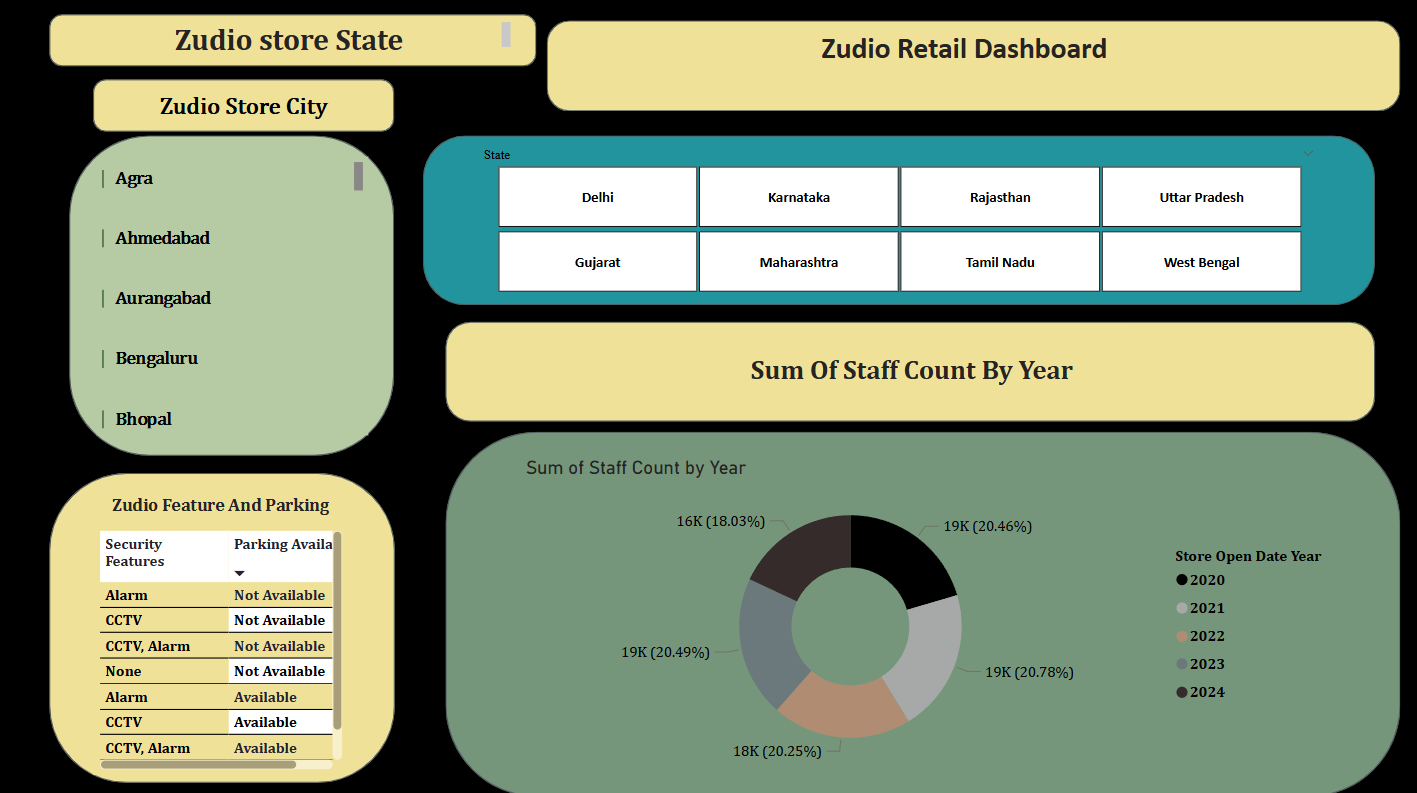

What the dashboard file says about the page in this screenshot:
{"tool":"powerbi","page":{"name":"Zudio_Retail_Staff_Summery_Dashbord","canvas":[1280,720],"ordinal":0},"visuals":[{"type":"shape","box":[45.7,14.8,439.3,47],"z":0,"group":"g5"},{"type":"shape","box":[494.4,20.2,769.8,81.9],"z":0,"group":"g6"},{"type":"shape","box":[64.5,123.6,292.9,288.8],"z":0,"group":"g1"},{"type":"shape","box":[382.9,123.6,858.4,153.1],"z":0,"group":"g4"},{"type":"shape","box":[403,291.5,838.3,90],"z":0,"group":"g3"},{"type":"shape","box":[403,390.9,861.1,329.1],"z":0,"group":"g2"},{"type":"shape","box":[45.7,428.5,311.7,279.4],"z":0},{"type":"textbox","box":[86.4,443.3,229.7,30.3],"z":0,"group":"g7"},{"type":"textbox","box":[64.5,17.5,401.7,43],"z":1000,"group":"g5"},{"type":"textbox","title":"1 Text box","box":[566.8,23.9,608.5,73.1],"z":1000,"group":"g6"},{"type":"shape","box":[85.7,73.3,271.6,47.3],"z":1000,"group":"g8"},{"type":"slicer","fields":{"Values":["Zudio_sales_data.State"]},"box":[425,129,774.1,142.3],"z":1000,"group":"g4"},{"type":"multiRowCard","fields":{"Values":["Zudio_sales_data.City"]},"box":[89.5,143,244.9,250.9],"z":1000,"group":"g1"},{"type":"textbox","box":[473.1,314.7,695.8,43.6],"z":1000,"group":"g3"},{"type":"donutChart","fields":{"Y":["Sum(Zudio_sales_data.Staff Count)"],"Category":["Zudio_sales_data.Store Open Date.Variation.Date Hierarchy.Year","Zudio_sales_data.Store Open Date.Variation.Date Hierarchy.Quarter","Zudio_sales_data.Store Open Date.Variation.Date Hierarchy.Month","Zudio_sales_data.Store Open Date.Variation.Date Hierarchy.Day"]},"box":[470.2,412.9,745.3,287.3],"z":1000,"group":"g2"},{"type":"tableEx","fields":{"Values":["Zudio_sales_data.Security Features","Zudio_sales_data.Parking Availability"]},"box":[86,476.5,229.7,224.9],"z":1000,"group":"g7"},{"type":"textbox","box":[98.9,80.6,244.2,37.6],"z":2000,"group":"g8"},{"type":"group","id":"g1","title":"Group 7","box":[64.5,123.6,292.9,288.8],"z":2000},{"type":"group","id":"g2","title":"Group 4","box":[403,390.9,861.1,329.1],"z":3000},{"type":"group","id":"g3","title":"Group 9","box":[403,291.5,838.3,90],"z":4000},{"type":"group","id":"g4","title":"Group 5","box":[382.9,123.6,858.4,153.1],"z":5000},{"type":"group","id":"g5","title":"Group 6","box":[45.7,14.8,439.3,47],"z":6000},{"type":"group","id":"g6","title":"Group 2","box":[494.4,20.2,769.8,81.9],"z":7000},{"type":"group","id":"g7","title":"Group 1","box":[86,443.3,229.7,256.6],"z":8000},{"type":"group","id":"g8","title":"Group 3","box":[85.7,73.3,271.6,47.3],"z":9000}]}

Visuals, with their boxes in screenshot pixels (x1, y1, x2, y2), scaled from the page's 1280x720 canvas onto the 1417x793 screenshot:
shape: rect(51, 16, 537, 68)
shape: rect(547, 22, 1400, 112)
shape: rect(71, 136, 396, 454)
shape: rect(424, 136, 1374, 305)
shape: rect(446, 321, 1374, 420)
shape: rect(446, 431, 1399, 792)
shape: rect(51, 472, 396, 780)
textbox: rect(96, 488, 350, 522)
textbox: rect(71, 19, 516, 67)
"1 Text box" textbox: rect(627, 26, 1301, 107)
shape: rect(95, 81, 396, 133)
slicer - Zudio_sales_data.State: rect(470, 142, 1327, 299)
multiRowCard - Zudio_sales_data.City: rect(99, 157, 370, 434)
textbox: rect(524, 347, 1294, 395)
donutChart - Sum(Zudio_sales_data.Staff Count) x Zudio_sales_data.Store Open Date.Variation.Date Hierarchy.Year: rect(521, 455, 1346, 771)
tableEx - Zudio_sales_data.Security Features x Zudio_sales_data.Parking Availability: rect(95, 525, 349, 773)
textbox: rect(109, 89, 380, 130)
"Group 7" group: rect(71, 136, 396, 454)
"Group 4" group: rect(446, 431, 1399, 792)
"Group 9" group: rect(446, 321, 1374, 420)
"Group 5" group: rect(424, 136, 1374, 305)
"Group 6" group: rect(51, 16, 537, 68)
"Group 2" group: rect(547, 22, 1400, 112)
"Group 1" group: rect(95, 488, 349, 771)
"Group 3" group: rect(95, 81, 396, 133)
